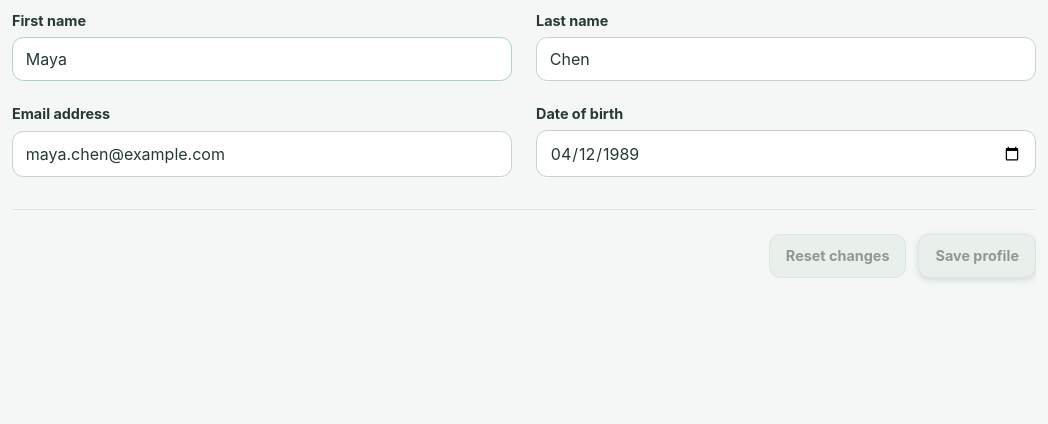
Scenario: ProfileForm › preserves the draft and reports invalid email input
This screenshot has width=1048, height=424.
Replace the text in the field labelled "Email address" with "not-an-email" at (262, 154), box [12,131,512,177]
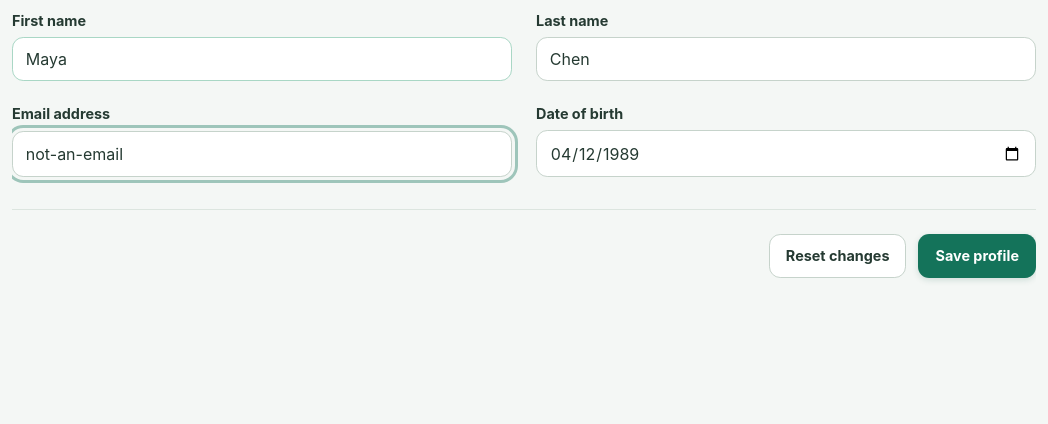
Click the button "Save profile".
click(977, 256)  # box [918,234,1036,278]
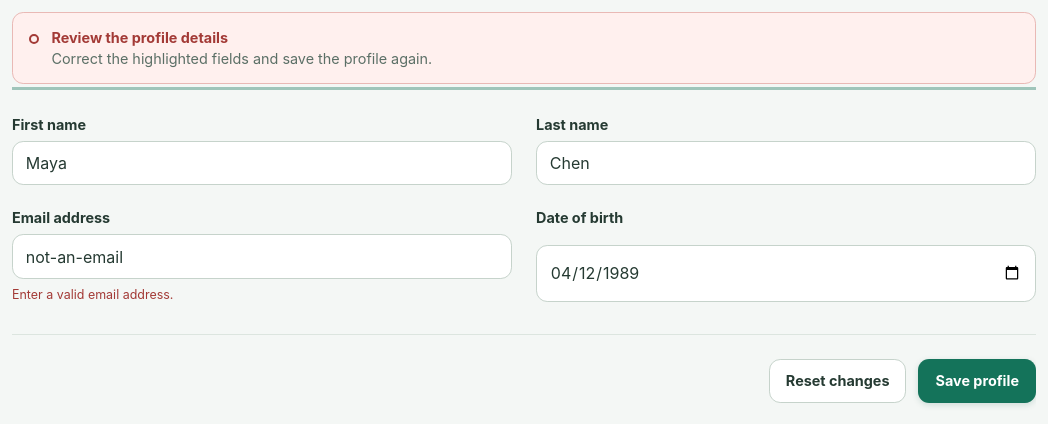
Now the text "Enter a valid email address." is shown, box [12,287,174,302]
